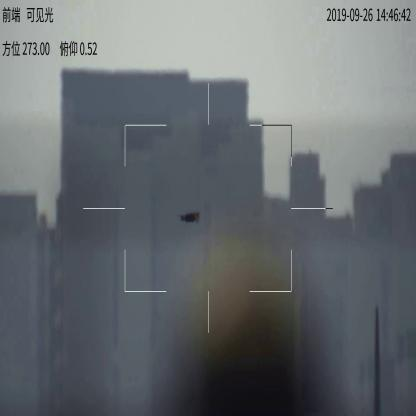uav: (175, 207, 202, 225)
